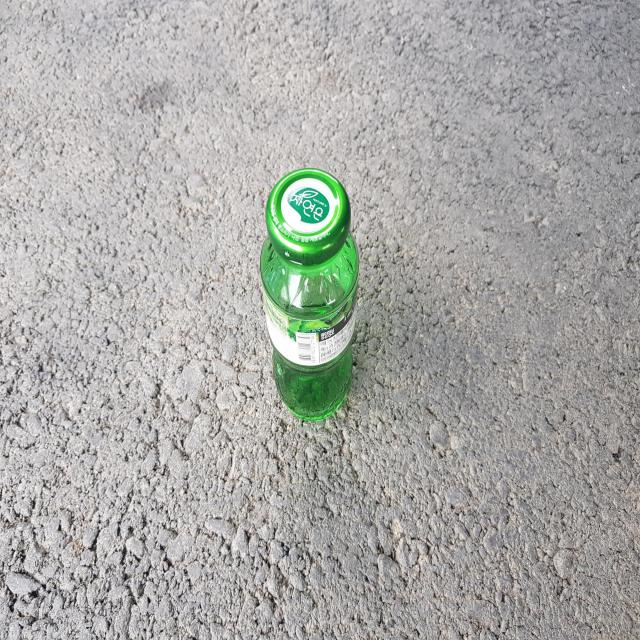glass: (260, 167, 359, 421)
